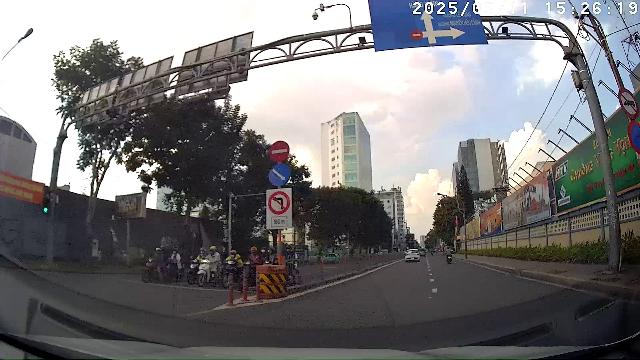102-cam-di-nguoc-chieu: (269, 140, 290, 162)
123a-cam-re-trai: (268, 190, 291, 215)
302a-huong-phai-di-vong-chuong-ngai-vat-1: (268, 163, 291, 186)
